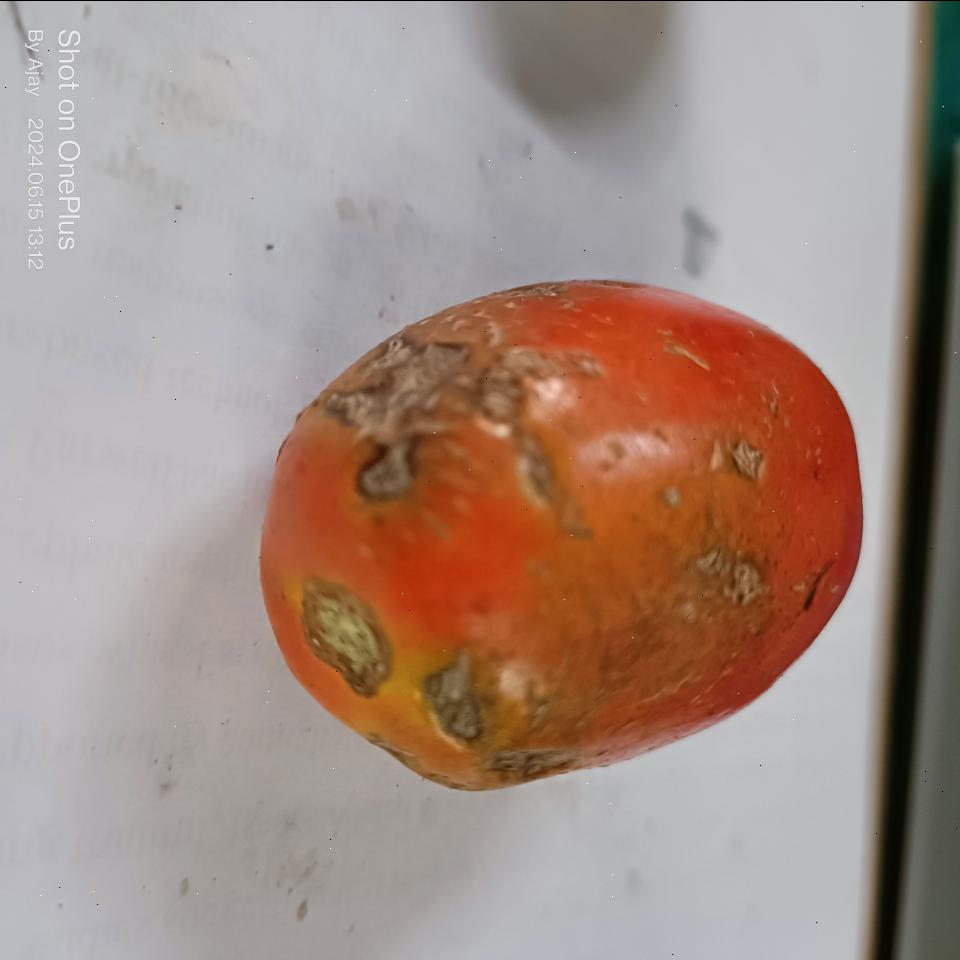Bacterial_Spot: (326, 312, 595, 518), (429, 648, 497, 744), (698, 538, 780, 610), (721, 432, 766, 486)
